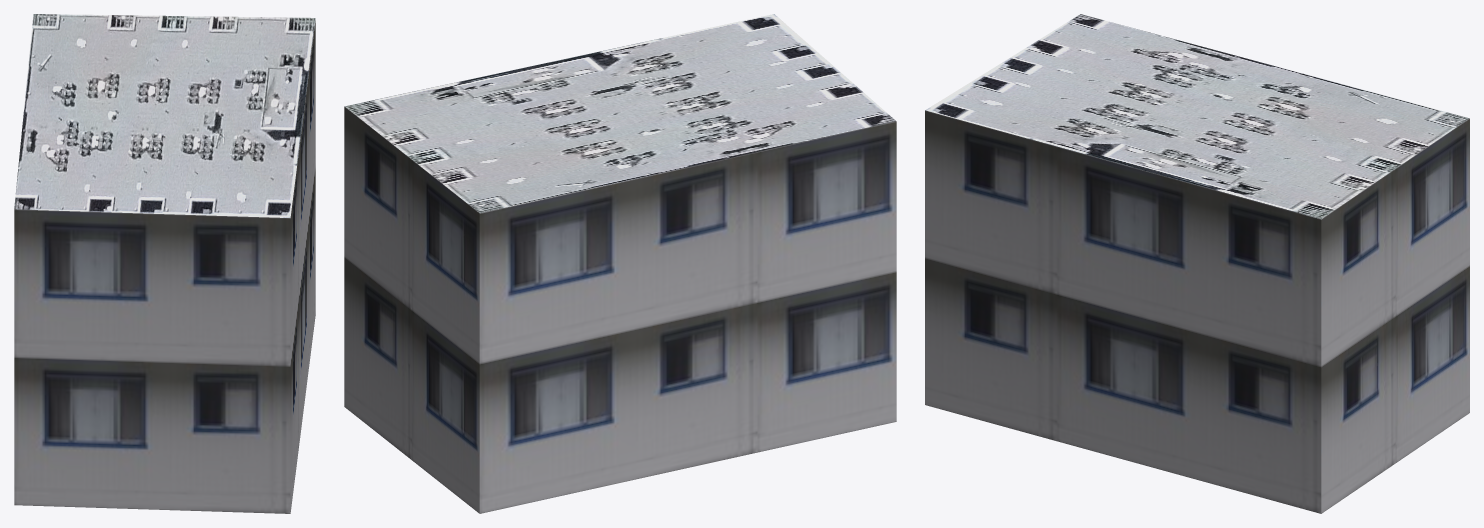
Rendered from ResTex__3845.fbx.
The picture shows the model from 3 angles, left to right: view 1: azimuth 30°, elevation 25°; view 2: azimuth 150°, elevation 25°; view 3: azimuth 270°, elevation 25°; orthographic projection. The views are drawn at different scales.
Visible parts, largest first — view 1: CityEngineMaterial_9_m, CityEngineMaterial_4_m; view 2: CityEngineMaterial_9_m, CityEngineMaterial_4_m; view 3: CityEngineMaterial_9_m, CityEngineMaterial_4_m.
Boxes of the visible parts, x1=… form: CityEngineMaterial_9_m: x1=14, y1=20, x2=315, y2=513; CityEngineMaterial_4_m: x1=14, y1=14, x2=315, y2=217; CityEngineMaterial_9_m: x1=344, y1=106, x2=896, y2=513; CityEngineMaterial_4_m: x1=345, y1=14, x2=895, y2=213; CityEngineMaterial_9_m: x1=925, y1=110, x2=1469, y2=513; CityEngineMaterial_4_m: x1=925, y1=14, x2=1469, y2=219.
Size of the model in its own units: 8.97 by 6 by 10.05.
2 materials, 2 textured.
